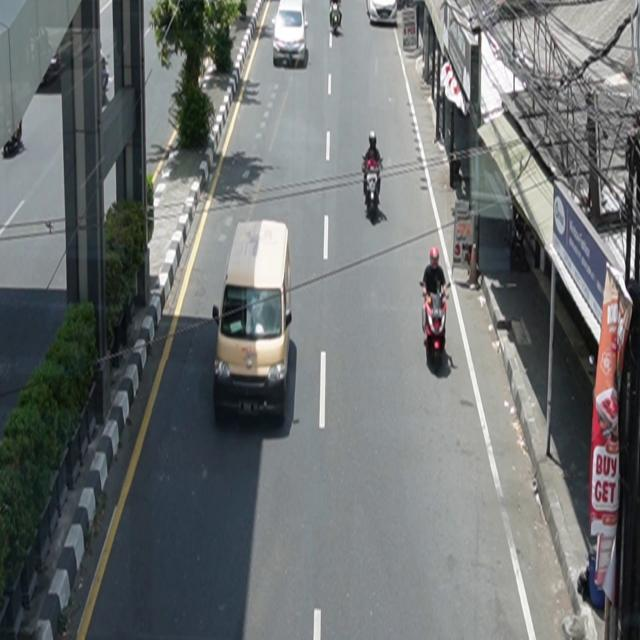bus: (213, 219, 293, 425)
car: (273, 1, 309, 69), (367, 1, 398, 26)
